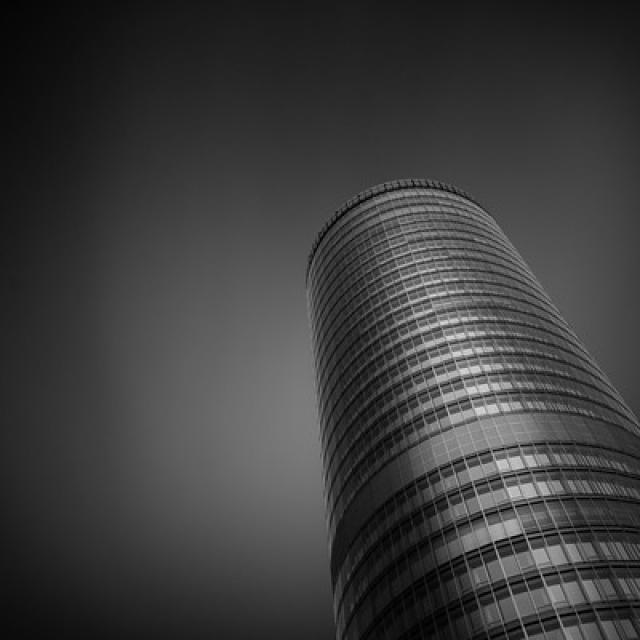building: (297, 169, 640, 640)
